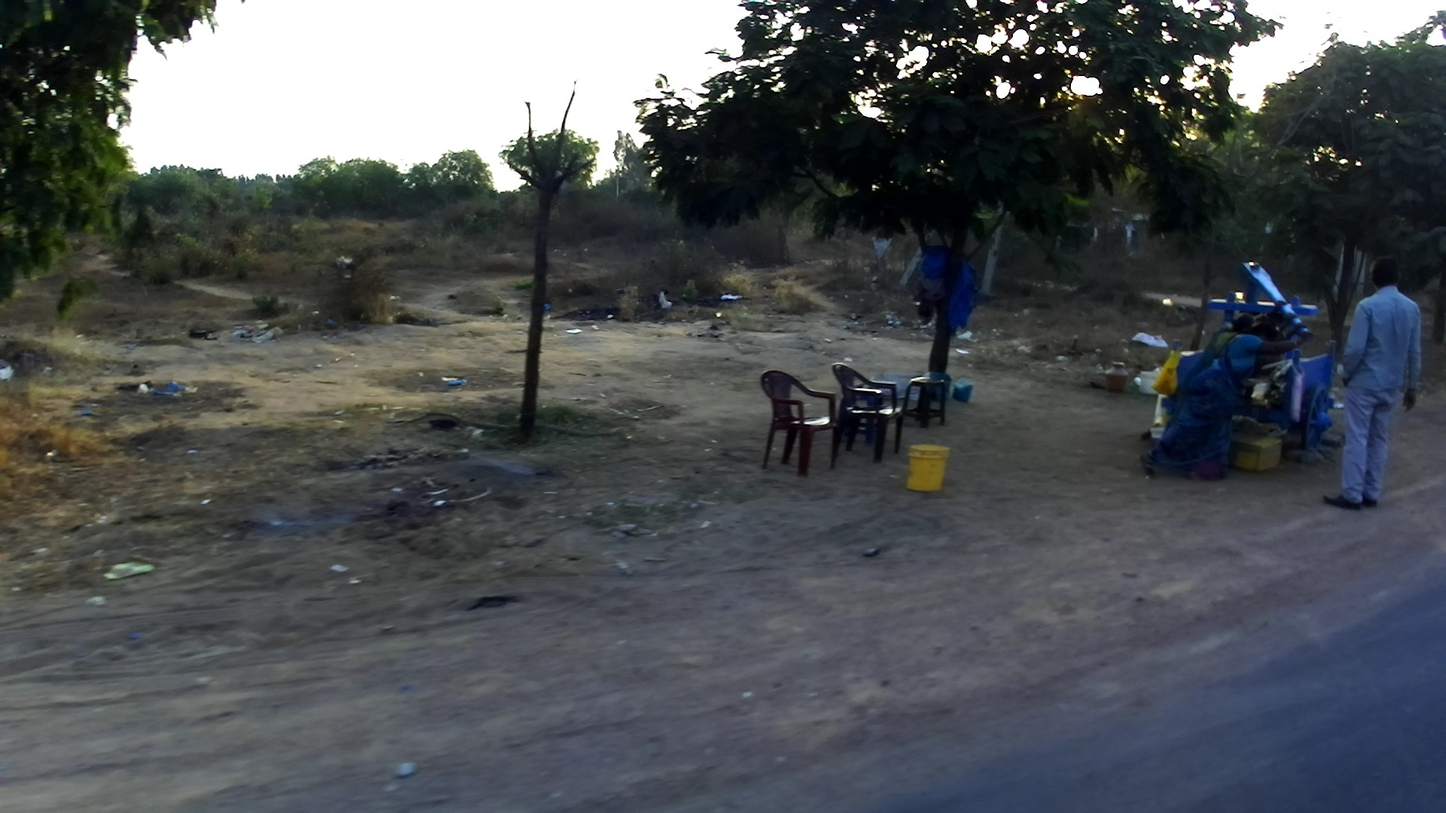person: (1139, 315, 1304, 487), (1319, 251, 1423, 509), (1169, 313, 1256, 413)
vehicle fallback: (1151, 258, 1336, 469)
